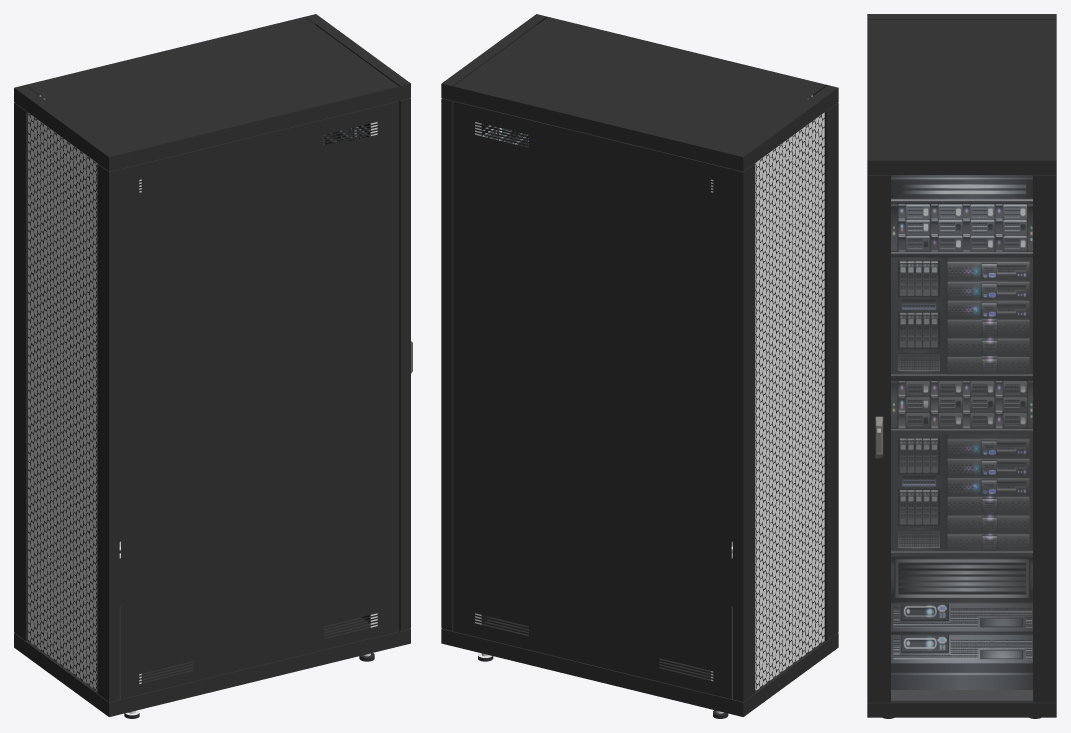
Rendered from rack_all_dark.glb.
3 renders of one model, left to right at view 1: azimuth 30°, elevation 25°; view 2: azimuth 150°, elevation 25°; view 3: azimuth 270°, elevation 25°, orthographic.
Parts seen in each view (by area): view 1: Cube.004; view 2: Cube.004; view 3: Cube.004.
Boxes of the visible parts, bbox=[...] form: Cube.004: bbox=[14, 14, 412, 718]; Cube.004: bbox=[441, 14, 838, 718]; Cube.004: bbox=[867, 14, 1056, 718].
Size of the model in its own units: 1.14 by 2.03 by 0.6096.
Materials: 9 (2 with a texture image).
